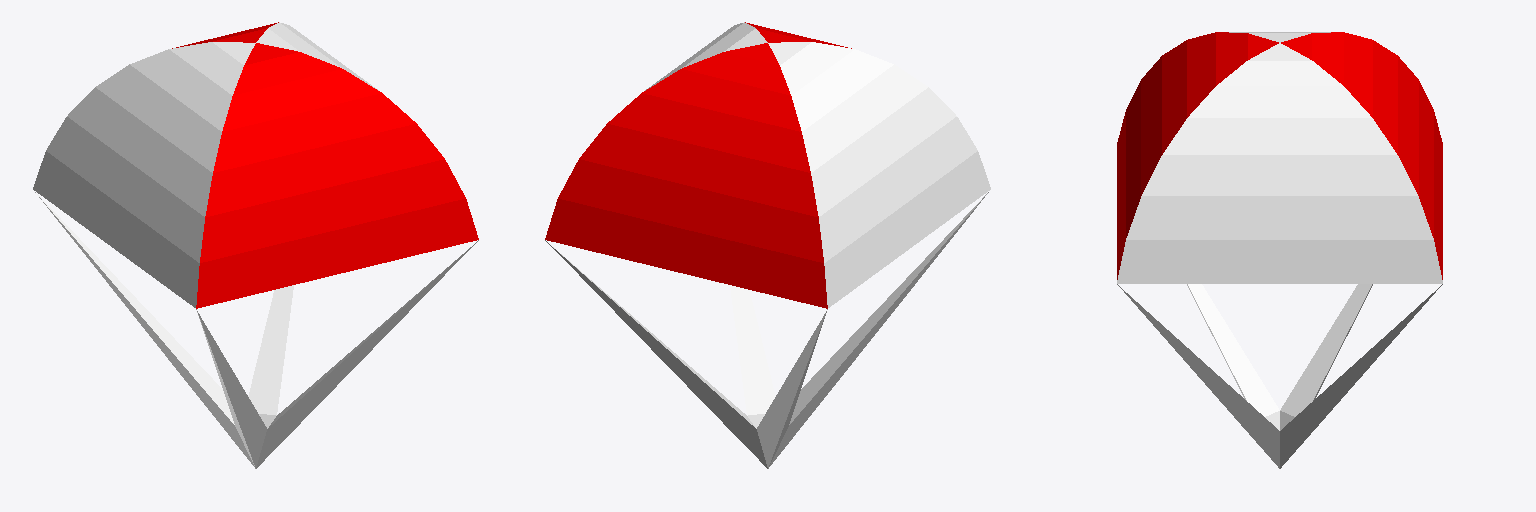
The picture shows the model from 3 angles: view 1: azimuth 30°, elevation 25°; view 2: azimuth 150°, elevation 25°; view 3: azimuth 270°, elevation 25°; orthographic projection.
Parts seen in each view (by area): view 1: 球_球.001; view 2: 球_球.001; view 3: 球_球.001.
Part boxes in pixels (x1,y1,x2,y2): 球_球.001: (33, 22, 478, 468); 球_球.001: (545, 22, 990, 468); 球_球.001: (1117, 32, 1442, 468).
Size of the model in its own units: 1.39 by 2 by 1.39.
1 materials, 1 textured.